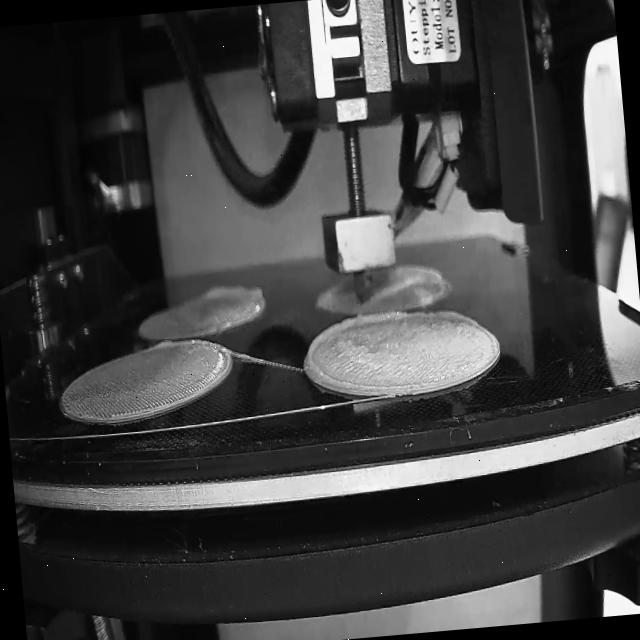over_extrusion: (302, 307, 421, 400), (202, 276, 268, 314), (376, 270, 426, 300), (428, 304, 482, 330), (152, 338, 180, 350)
